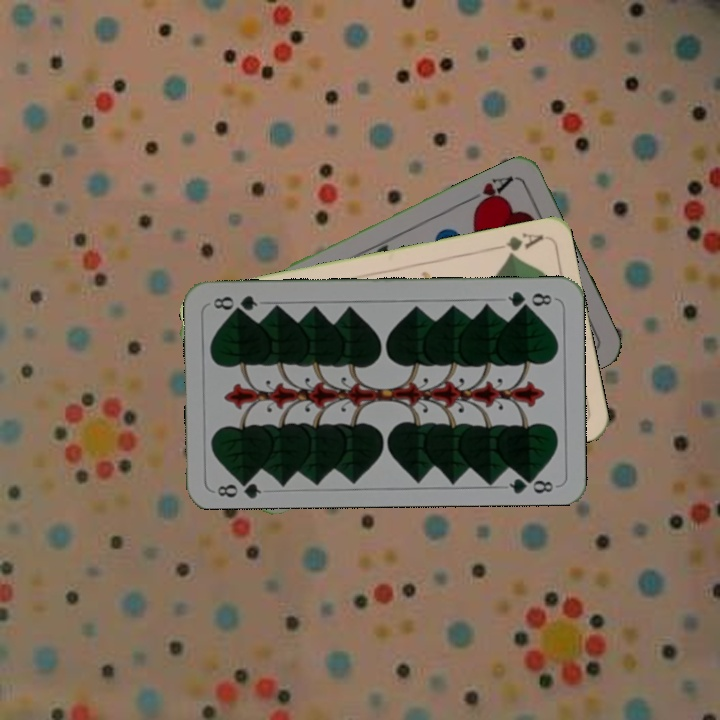G8: (214, 473, 264, 500), (504, 287, 555, 311)
GA: (487, 228, 546, 260)
HA: (463, 171, 516, 213)
